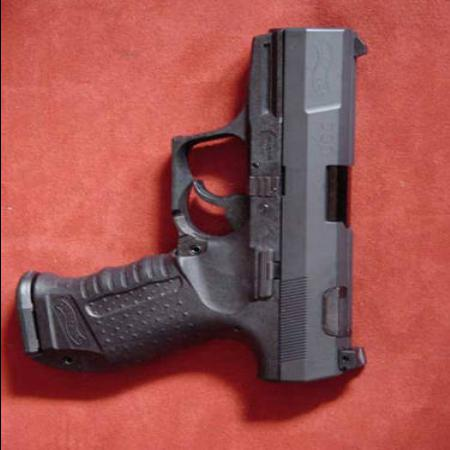Pistol: (21, 26, 374, 382)
